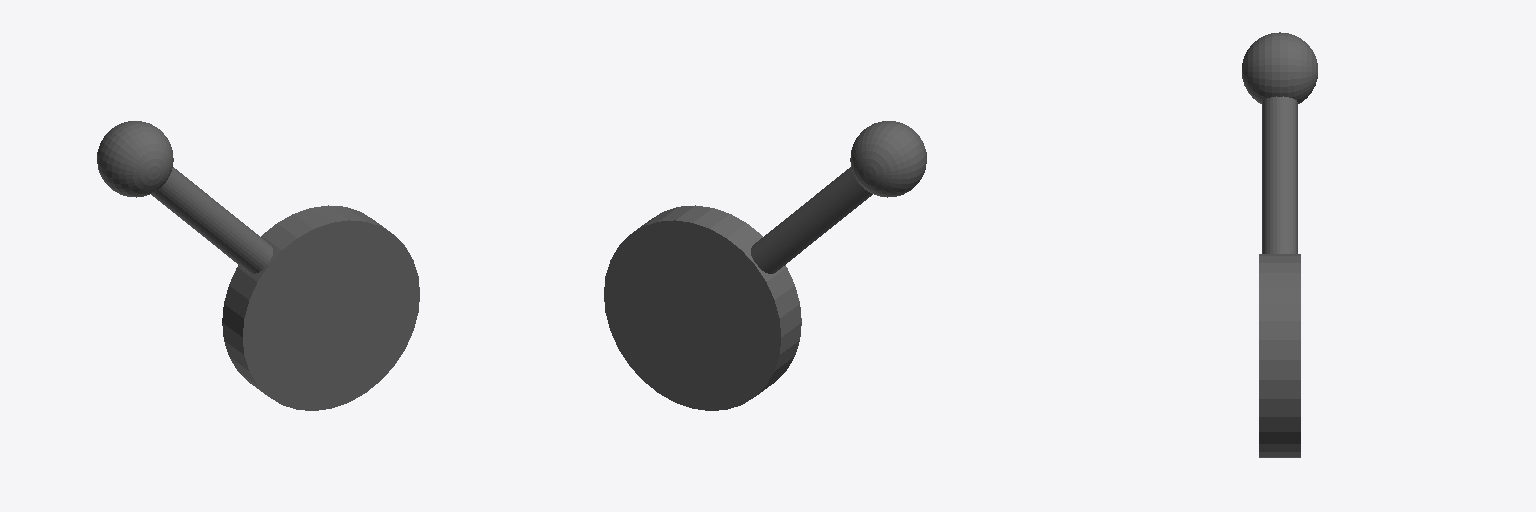
File: lever.obj
3 renders of one model, left to right at view 1: azimuth 30°, elevation 25°; view 2: azimuth 150°, elevation 25°; view 3: azimuth 270°, elevation 25°, orthographic.
Visible parts, largest first — view 1: Lever1_Cylinder.002; view 2: Lever1_Cylinder.002; view 3: Lever1_Cylinder.002.
Boxes of the visible parts, x1=… form: Lever1_Cylinder.002: x1=97, y1=121, x2=419, y2=410; Lever1_Cylinder.002: x1=604, y1=121, x2=926, y2=410; Lever1_Cylinder.002: x1=1242, y1=32, x2=1317, y2=457.
Bounding box in the file's own units: 0.2438 × 0.2438 × 0.0527.